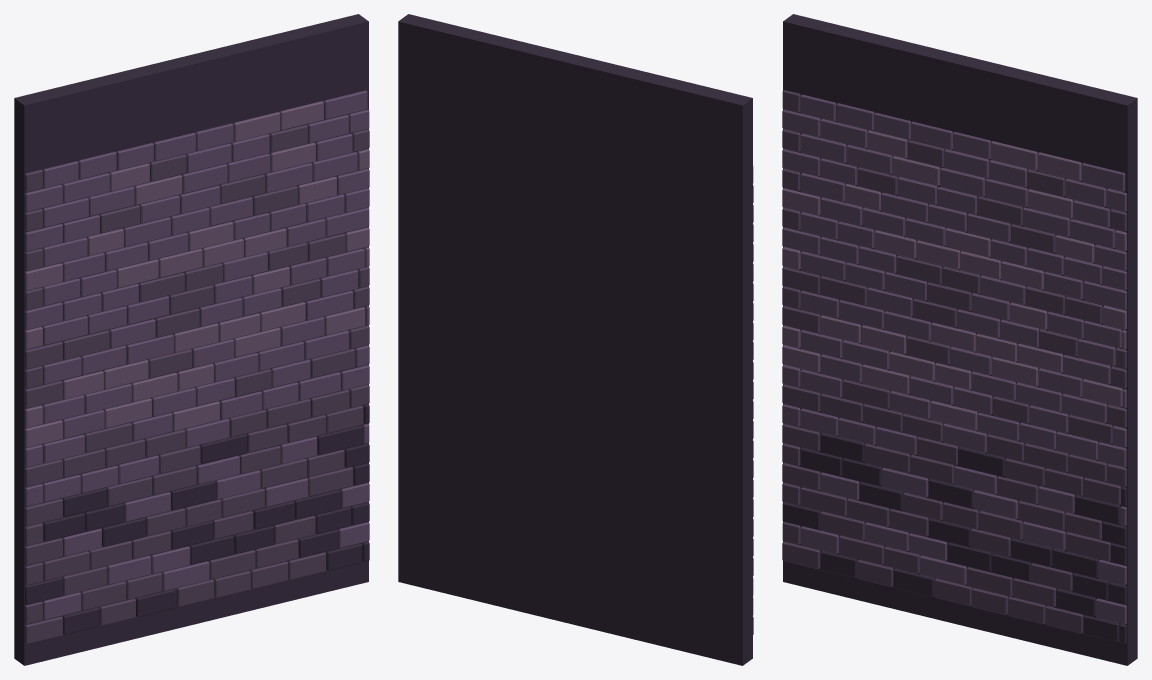
File: SM_Vault_EastWall.fbx
3 views of the same model, side by side, from view 1: azimuth 30°, elevation 25°; view 2: azimuth 150°, elevation 25°; view 3: azimuth 330°, elevation 25° (orthographic).
Parts seen in each view (by area): view 1: SM_Vault_EastWall; view 2: SM_Vault_EastWall; view 3: SM_Vault_EastWall.
Part boxes in pixels (x1,y1,x2,y2): SM_Vault_EastWall: (14, 14, 369, 665); SM_Vault_EastWall: (398, 14, 753, 665); SM_Vault_EastWall: (782, 14, 1137, 665).
Size of the model in its own units: 1010 by 60.99 by 1570.
